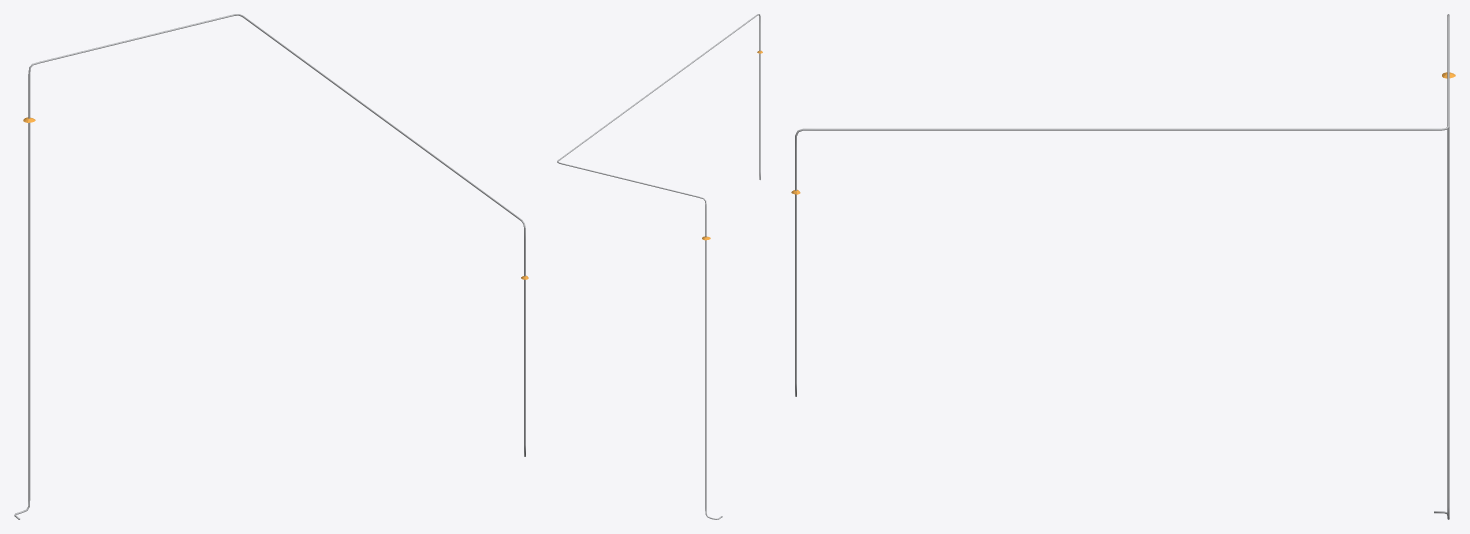
Rendered from pipes_hvac__water_heater-garage_electric_tankless.glb.
The picture shows the model from 3 angles, left to right: view 1: azimuth 30°, elevation 25°; view 2: azimuth 150°, elevation 25°; view 3: azimuth 270°, elevation 25°; orthographic projection. The views are drawn at different scales.
Parts seen in each view (by area): view 1: cable_wh_etankless; view 2: cable_wh_etankless; view 3: cable_wh_etankless.
Part boxes in pixels (x1=…): cable_wh_etankless: x1=14, y1=14, x2=525, y2=519; cable_wh_etankless: x1=557, y1=14, x2=760, y2=519; cable_wh_etankless: x1=795, y1=14, x2=1449, y2=519.
Bounding box in the file's own units: 1.91 × 3.54 × 4.18.
